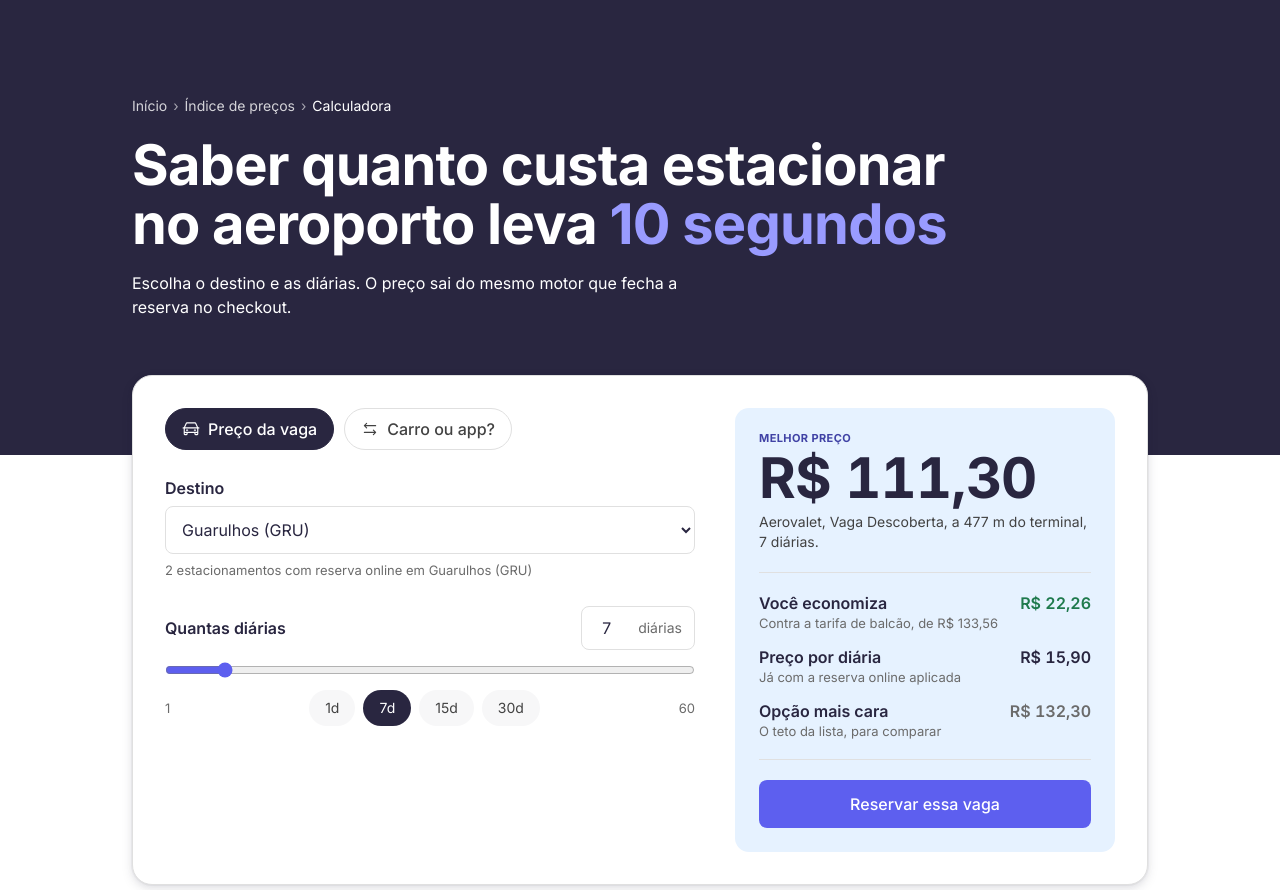
Test case: CalculadoraPage › escolher o modo app habilita a calculadora específica e esconde o ranking
Click the radio button labelled "Carro ou app?" at x=428, y=429, box [344, 408, 512, 450]
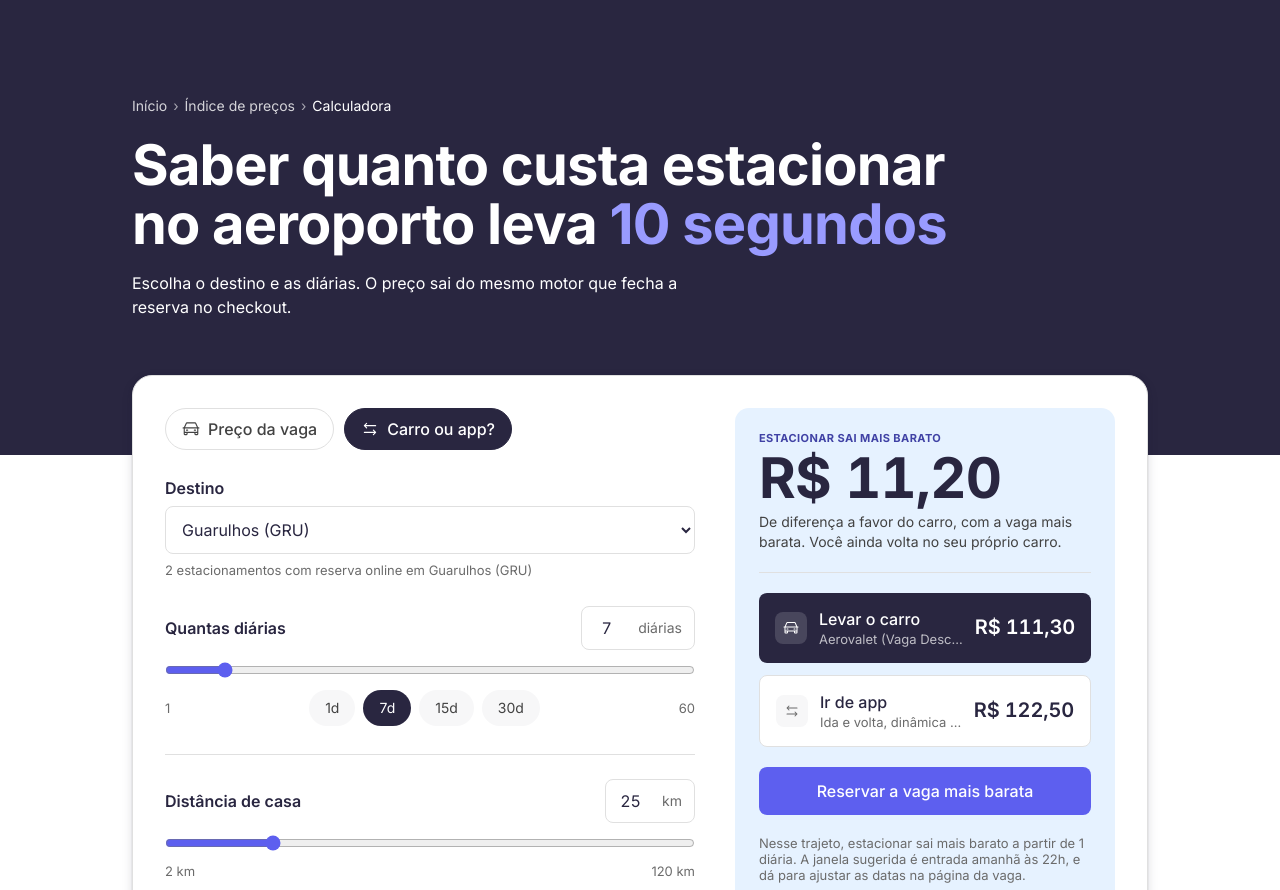
Now the number field named "Distância em km" is shown, box [618, 789, 658, 813]
